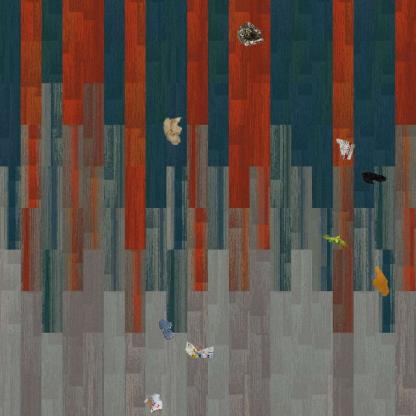dirty: (235, 20, 264, 48), (184, 340, 216, 359), (162, 116, 182, 145), (142, 392, 165, 416), (335, 137, 356, 161), (360, 170, 388, 188), (320, 233, 350, 249)
liquid: (371, 266, 391, 297), (157, 317, 175, 341)
